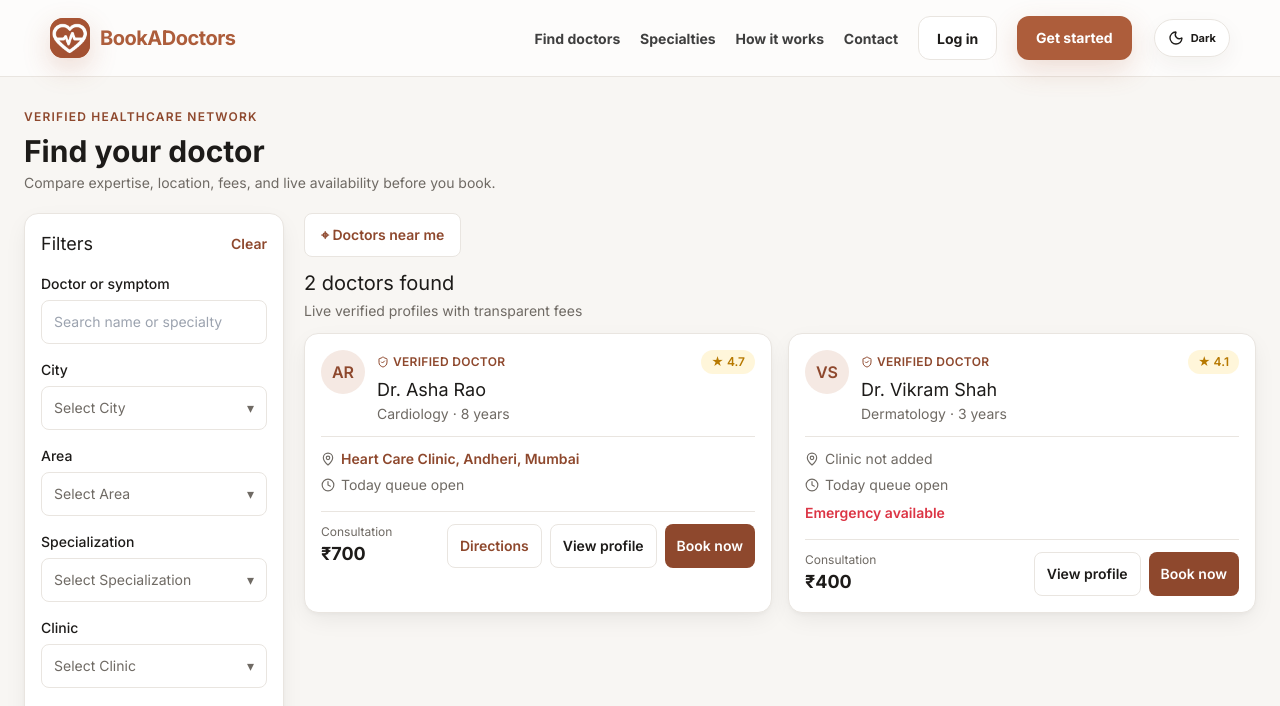
Test: SearchResults › uses consented device location to show only mapped clinics within the radius
Click the button "⌖ Doctors near me".
click(383, 235)  # box [304,213,461,257]
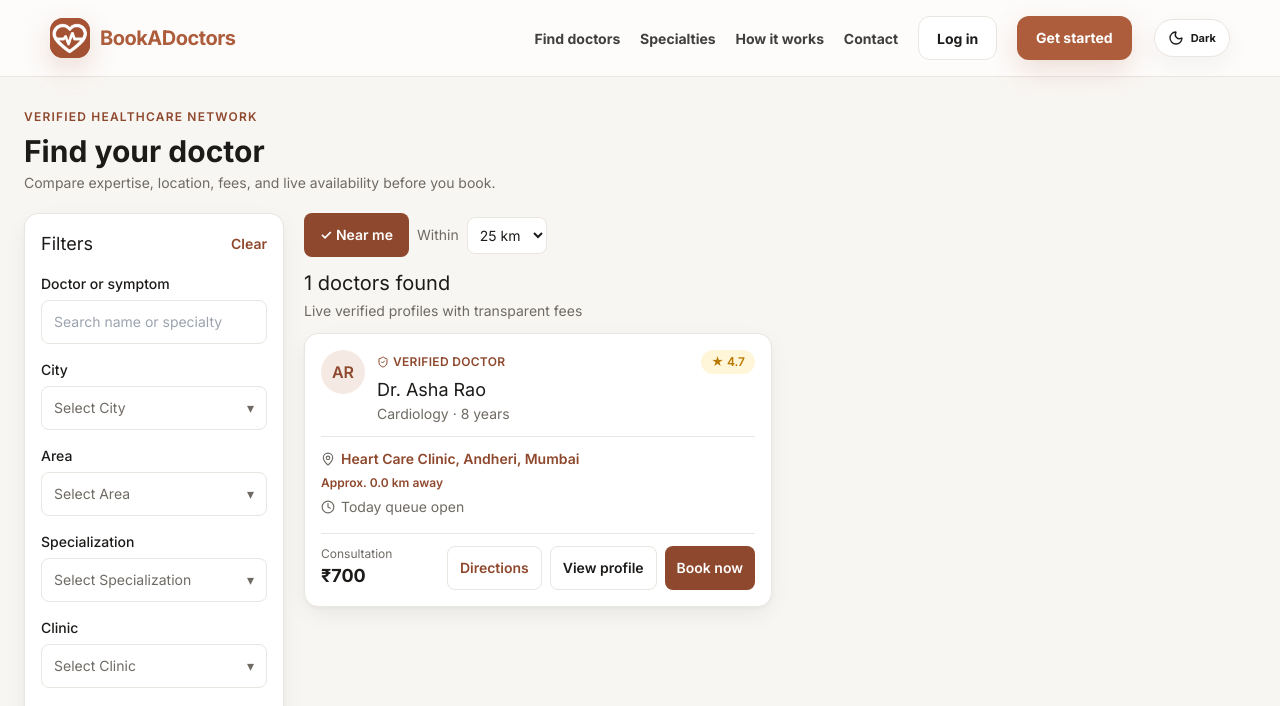
Expected: the heading "1 doctors found" is shown, [304,271,450,295]
Expected: the text "Approx. 0.0 km away" is shown, [321,475,443,490]
Expected: the heading "Dr. Vikram Shah" is gone
